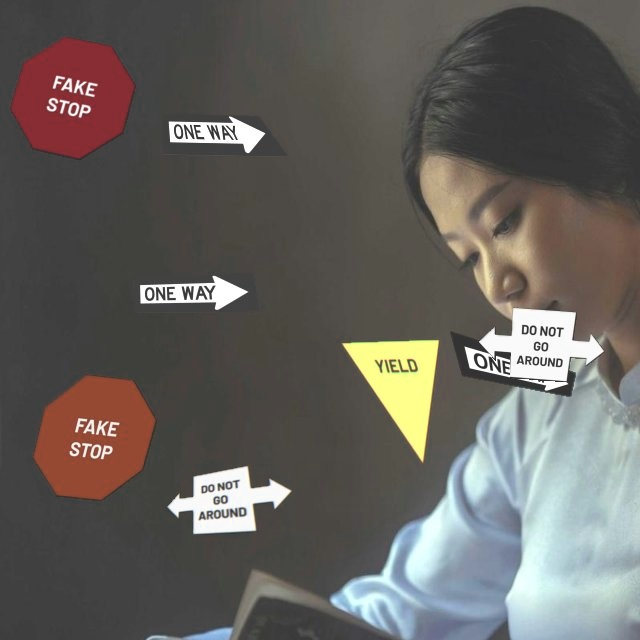DO_NOT_GO_AROUND: (478, 307, 605, 382), (166, 465, 293, 535)
FAKE_STOP: (32, 374, 157, 501), (9, 36, 136, 160)
ONE_WAY_ right: (449, 330, 576, 397), (162, 113, 289, 157), (133, 272, 260, 313)
YIELD: (340, 339, 440, 466)
